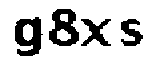8: (48, 5, 81, 51)
g: (7, 15, 46, 60)
s: (117, 17, 144, 51)
x: (80, 17, 113, 50)
